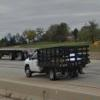Car: (22, 47, 58, 80)
